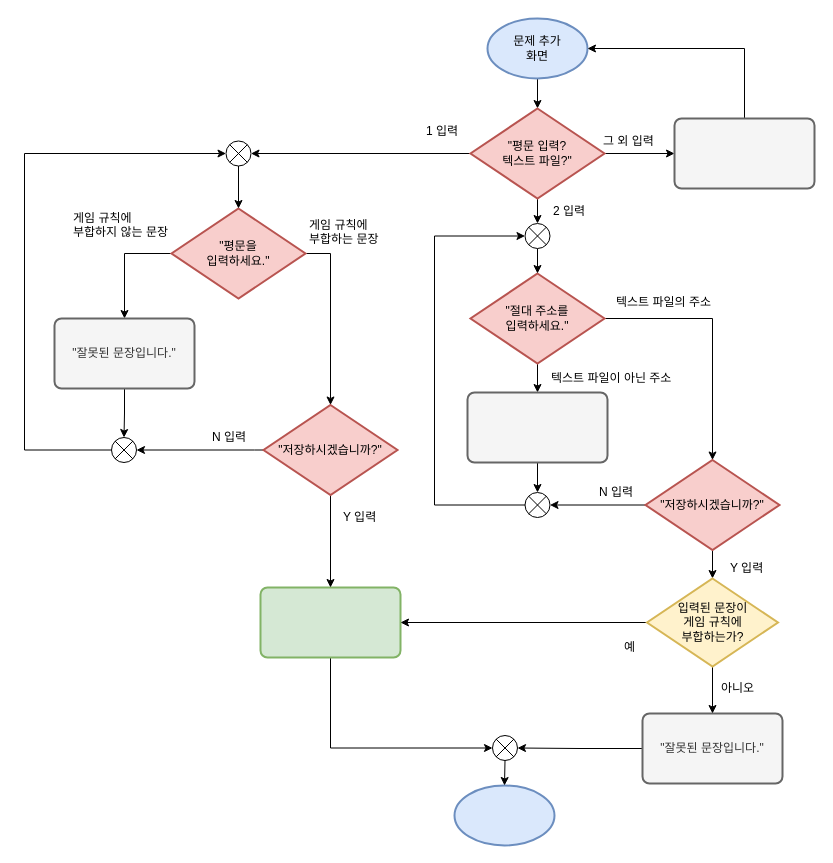
This 833x863 diagram has some shape labels left out. The centre of each missing label's shape, as x and y in pixels:
"잘못된 번호입니다.": point (744, 153)
"잘못된 주소입니다.": point (537, 427)
입력된 문장을 클래스 내부 변수에 저장.: point (330, 622)
초기 화면으로 돌아감.: point (504, 815)
